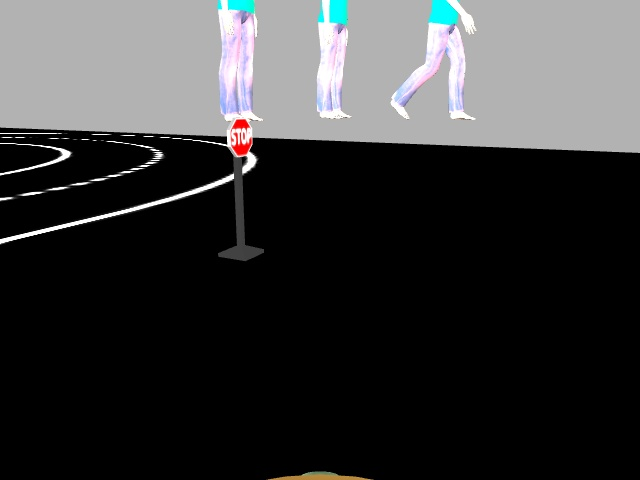Stop: (224, 115, 254, 158)
